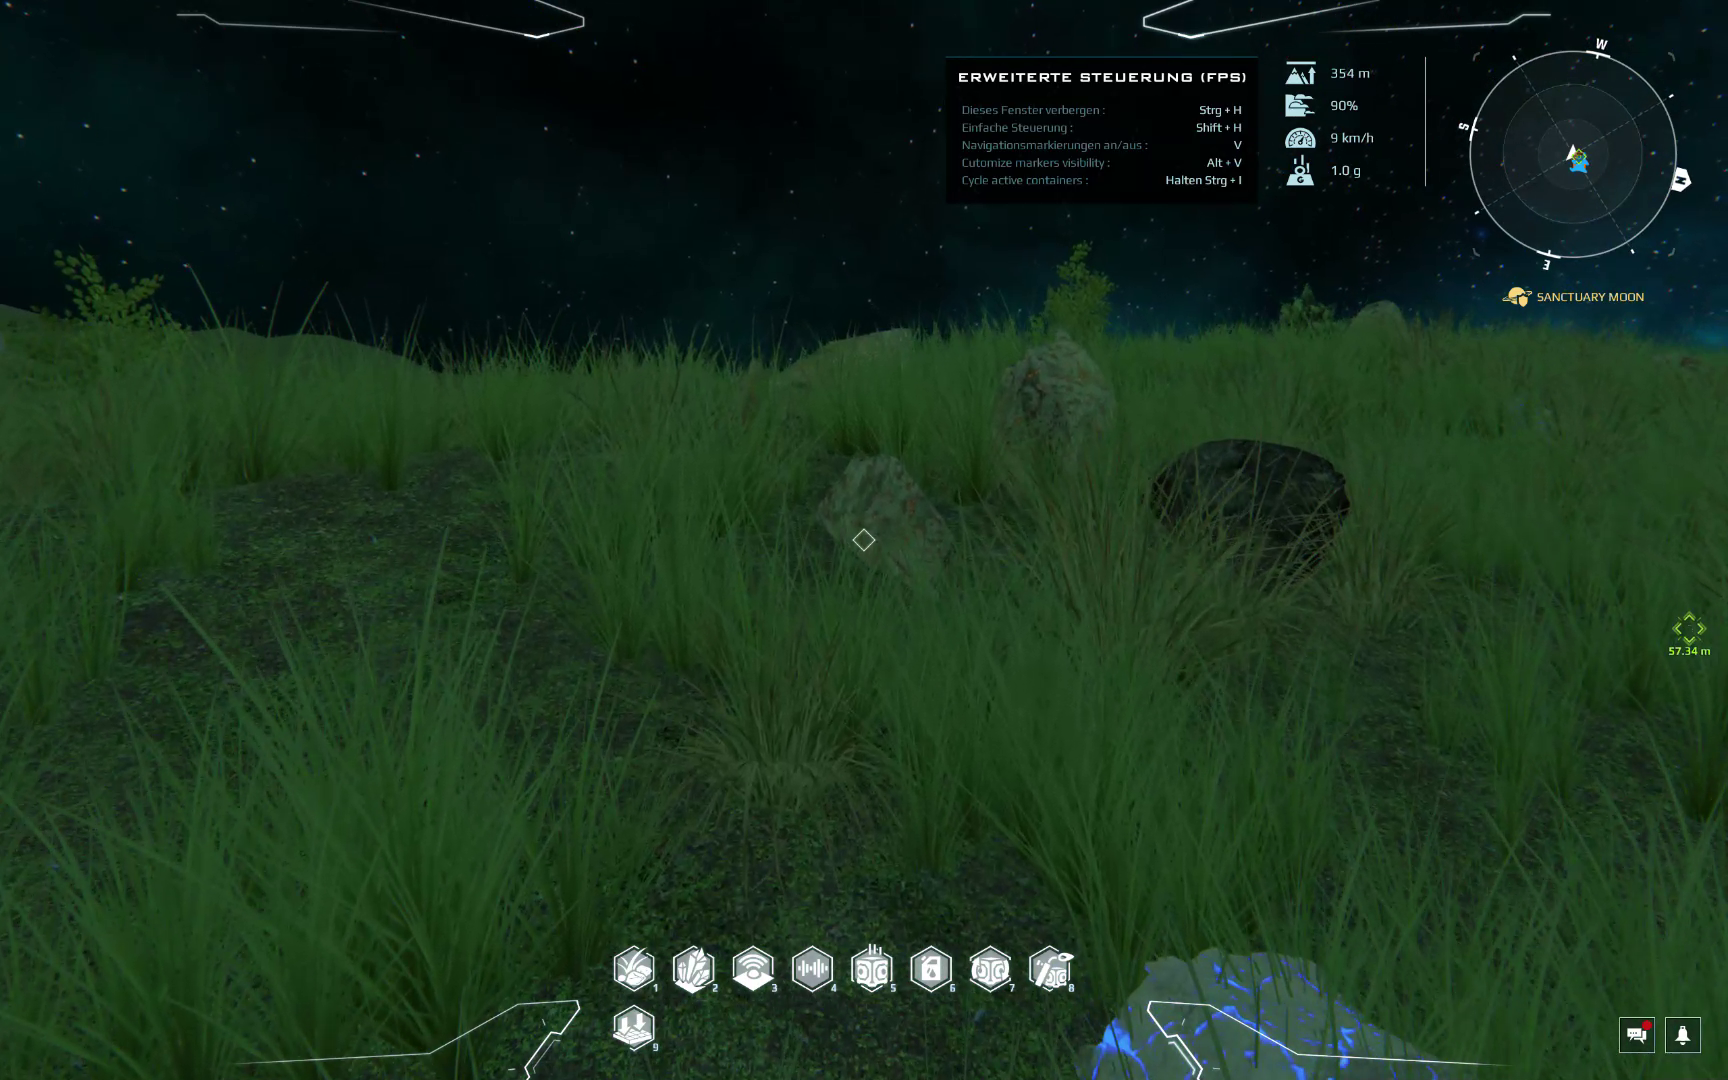Ore: (1092, 944, 1466, 1080), (1146, 438, 1350, 579), (815, 453, 954, 603), (992, 333, 1118, 488), (776, 325, 914, 387)
